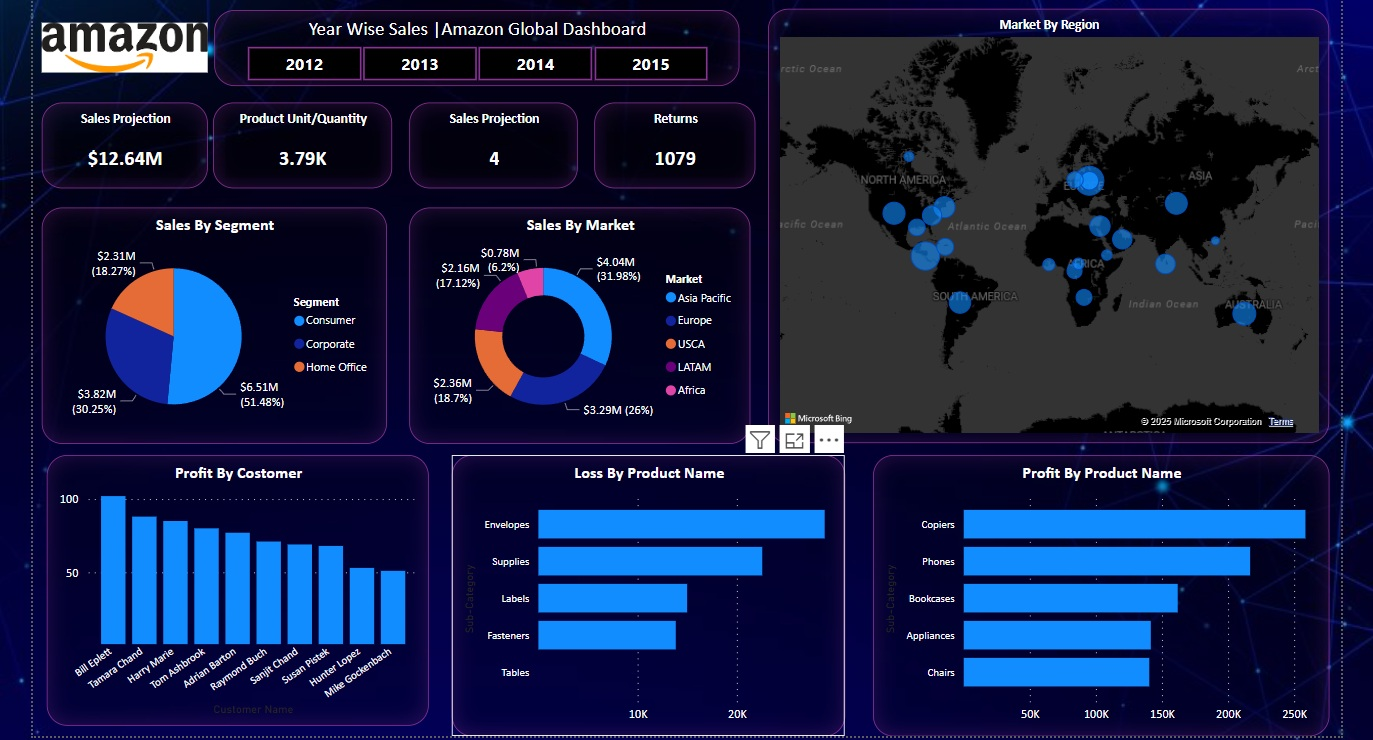

This screenshot's page, from the dashboard's own definition file:
{"tool":"powerbi","page":{"name":"Page 1","canvas":[1280,720],"ordinal":0},"visuals":[{"type":"slicer","title":"Year Wise Sales |Amazon Global Dashboard","fields":{"Values":["Orders.order year"]},"box":[171.2,10,520,73.8],"z":0},{"type":"image","box":[3.7,8.6,172.4,75.8],"z":1000},{"type":"cardVisual","title":"Sales Projection","fields":{"Data":["Orders.Sales"]},"box":[8.6,100.2,162.6,84.3],"z":2000},{"type":"cardVisual","title":"Product Unit/Quantity","fields":{"Data":["Orders.Product ID"]},"box":[176,100.2,174.8,84.3],"z":3000},{"type":"cardVisual","title":"Sales Projection","fields":{"Data":["Orders.delivery day"]},"box":[367.9,100.2,165,84.3],"z":4000},{"type":"cardVisual","title":"Returns","fields":{"Data":["Returns.Return1"]},"box":[548.9,100.2,157.7,84.3],"z":5000},{"type":"map","title":"Market By Region","fields":{"Category":["Orders.Region"],"Size":["Orders.Market"]},"box":[718.8,8.8,548.8,425],"z":6000},{"type":"pieChart","title":"Sales By Segment","fields":{"Category":["Orders.Segment"],"Y":["Orders.Sales"]},"box":[8.8,202.5,337.5,231.2],"z":7000},{"type":"donutChart","title":"Sales By Market","fields":{"Category":["Orders.Market"],"Y":["Orders.Sales"]},"box":[367.5,202.5,333.8,231.2],"z":8000},{"type":"clusteredColumnChart","title":"Profit By Costomer","fields":{"Category":["Orders.Customer Name"],"Y":["Orders.Profit"]},"box":[13.8,445,373.8,265],"z":9000},{"type":"barChart","title":"Loss By Product Name","fields":{"Category":["Orders.Sub-Category"],"Y":["Orders.Profit"]},"box":[410,445,385,275],"z":10000},{"type":"barChart","title":"Profit By Product Name","fields":{"Category":["Orders.Sub-Category"],"Y":["Orders.Profit"]},"box":[821.2,445,446.2,275],"z":11000}]}

Visuals, with their boxes on the page's 1280x720 design canvas (x1, y1, x2, y2). These are canvas units, not pixel positions in the 1373x740 screenshot, which may show the page scaled, cropped or inside an application window:
"Year Wise Sales |Amazon Global Dashboard" slicer: bbox=[171, 10, 691, 84]
image: bbox=[4, 9, 176, 84]
"Sales Projection" cardVisual: bbox=[9, 100, 171, 184]
"Product Unit/Quantity" cardVisual: bbox=[176, 100, 351, 184]
"Sales Projection" cardVisual: bbox=[368, 100, 533, 184]
"Returns" cardVisual: bbox=[549, 100, 707, 184]
"Market By Region" map: bbox=[719, 9, 1268, 434]
"Sales By Segment" pieChart: bbox=[9, 202, 346, 434]
"Sales By Market" donutChart: bbox=[368, 202, 701, 434]
"Profit By Costomer" clusteredColumnChart: bbox=[14, 445, 388, 710]
"Loss By Product Name" barChart: bbox=[410, 445, 795, 720]
"Profit By Product Name" barChart: bbox=[821, 445, 1267, 720]
